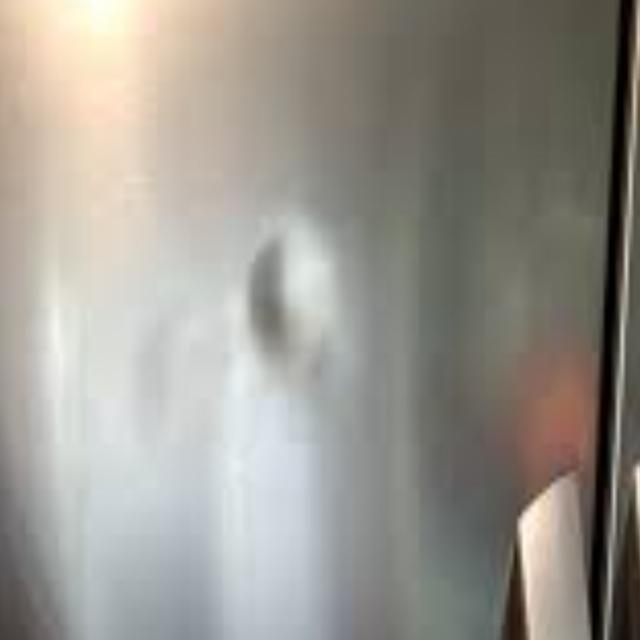dents: (230, 224, 357, 380)
